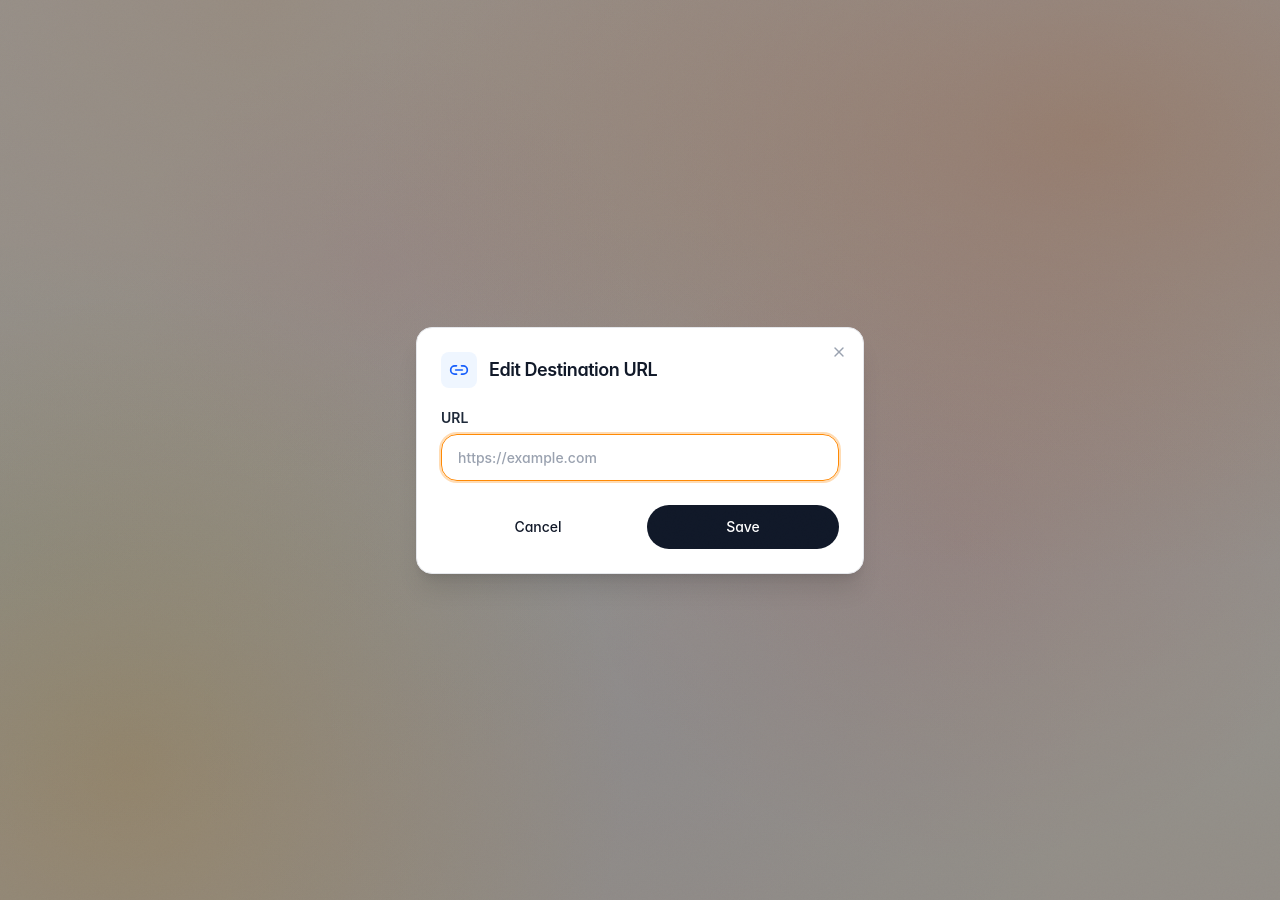
Test case: EditUrlModal › interactions › shows error when submitting empty URL
The width and height of the screenshot is (1280, 900).
Click the button "Save" at (743, 526), box left=647, top=504, right=839, bottom=548
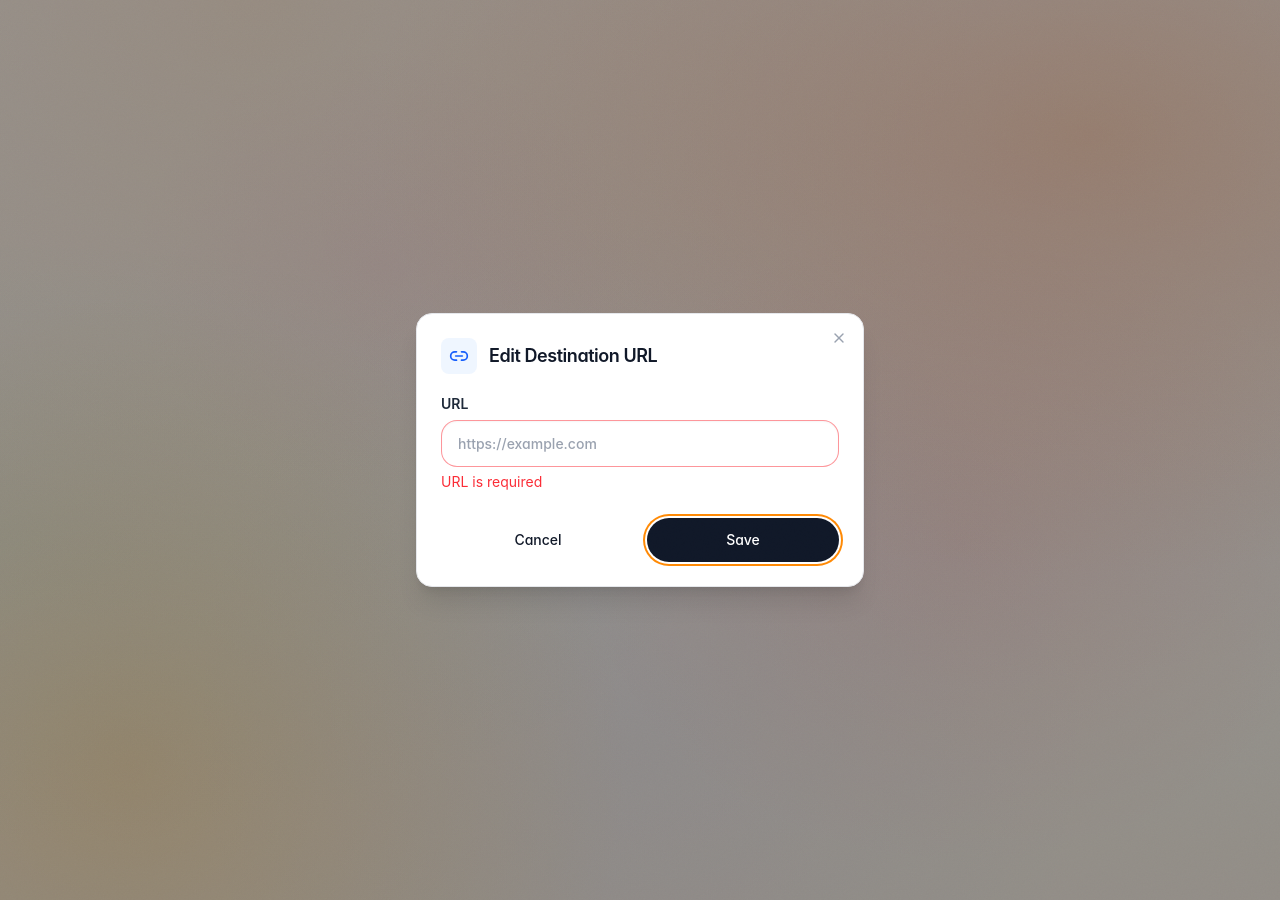
Expected: the text "URL is required" is shown, left=441, top=473, right=542, bottom=490
